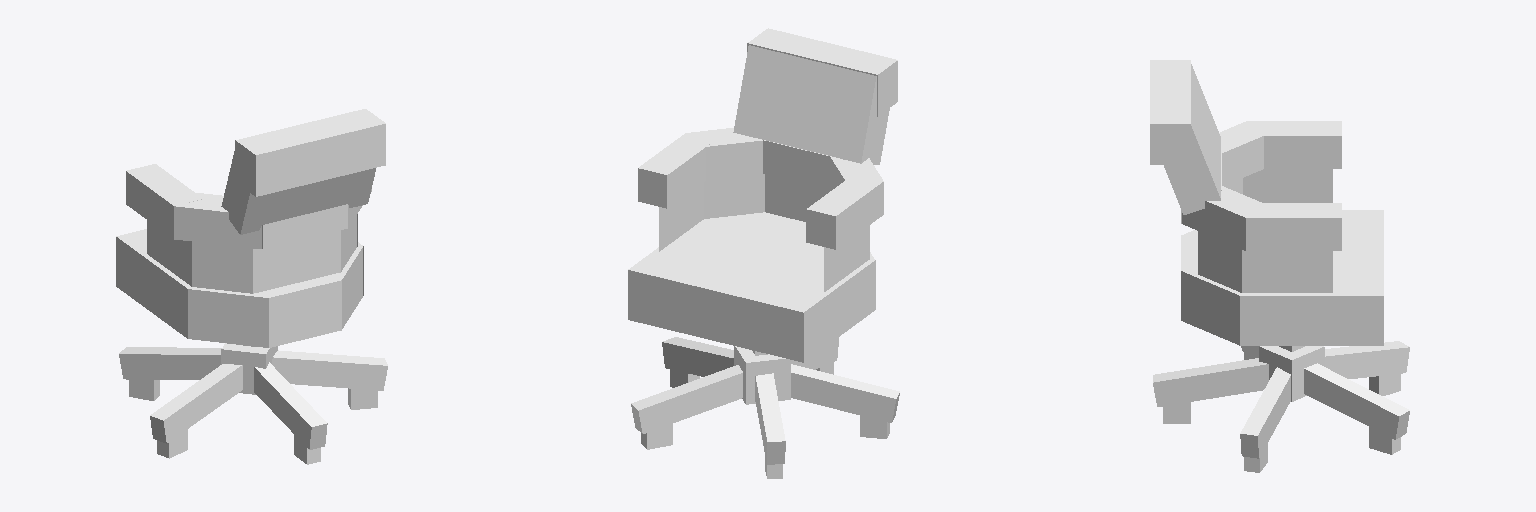
Rendered from mt_chair_caster.obj.
3 renders of one model, left to right at view 1: azimuth 30°, elevation 25°; view 2: azimuth 150°, elevation 25°; view 3: azimuth 270°, elevation 25°, orthographic.
Parts seen in each view (by area): view 1: octagon.013, octagon.011, cube, octagon.001, octagon, octagon.002, cube.008, cube.005, cube.006, octagon.006, cube.009, octagon.008 (+9 smaller); view 2: cube, octagon.011, octagon.006, cube.007, octagon.013, octagon.007, cube.005, octagon.009, octagon.004, octagon.010, cube.008, cube.006 (+10 smaller); view 3: cube, octagon.007, octagon.013, octagon.011, octagon.006, octagon.012, cube.009, cube.007, octagon.000, octagon.003, cube.006, cube.008 (+8 smaller).
Part boxes in pixels (left/top/right/bottom): octagon.013: left=235, top=109, right=385, bottom=196; octagon.011: left=221, top=151, right=375, bottom=234; cube: left=116, top=229, right=363, bottom=338; octagon.001: left=188, top=287, right=268, bottom=347; octagon: left=261, top=274, right=341, bottom=347; octagon.002: left=253, top=230, right=340, bottom=293; cube.008: left=272, top=350, right=387, bottom=390; cube.005: left=150, top=364, right=242, bottom=443; cube.006: left=119, top=347, right=221, bottom=379; octagon.006: left=126, top=164, right=202, bottom=238; cube.009: left=254, top=362, right=327, bottom=449; octagon.008: left=174, top=193, right=261, bottom=248; cube: left=628, top=219, right=875, bottom=362; octagon.011: left=733, top=45, right=889, bottom=164; octagon.006: left=806, top=174, right=883, bottom=249; cube.007: left=631, top=365, right=742, bottom=433; octagon.013: left=747, top=28, right=897, bottom=116; octagon.007: left=638, top=133, right=714, bottom=208; cube.005: left=791, top=364, right=899, bottom=422; octagon.009: left=689, top=128, right=762, bottom=179; octagon.004: left=704, top=174, right=764, bottom=218; octagon.010: left=756, top=138, right=839, bottom=189; cube.008: left=662, top=337, right=733, bottom=376; cube.006: left=755, top=373, right=785, bottom=464; cube: left=1240, top=210, right=1383, bottom=345; octagon.007: left=1246, top=203, right=1341, bottom=250; octagon.013: left=1150, top=60, right=1190, bottom=164; octagon.011: left=1164, top=64, right=1220, bottom=214; octagon.006: left=1246, top=121, right=1341, bottom=168; octagon.012: left=1242, top=250, right=1332, bottom=292; cube.009: left=1153, top=358, right=1268, bottom=406; cube.007: left=1304, top=363, right=1409, bottom=439; octagon.000: left=1181, top=271, right=1239, bottom=345; octagon.003: left=1243, top=169, right=1332, bottom=202; cube.006: left=1325, top=341, right=1409, bottom=378; cube.008: left=1240, top=367, right=1290, bottom=458.
Size of the model in its own units: 0.918 by 1.23 by 0.8826.